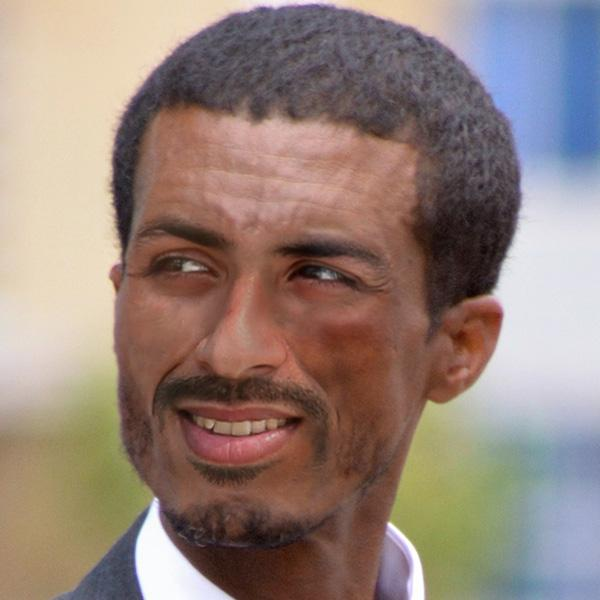Eyes: (270, 250, 369, 307), (132, 238, 226, 295)
